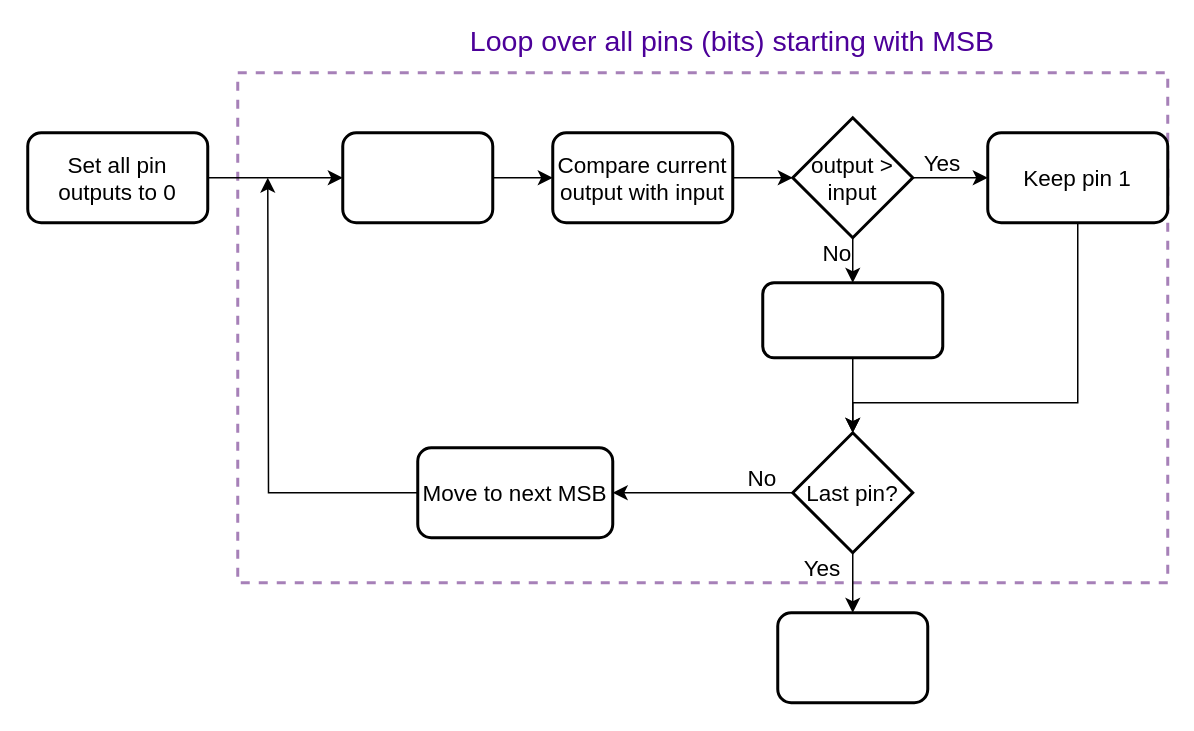
Some shapes in this 1194 by 731 pixel diagram are drawn without their labels. Each missing label, with the box of its shape:
Output result: (776, 610, 928, 704)
Set pin to 0: (760, 280, 944, 358)
Set pin to 1: (340, 130, 494, 224)
